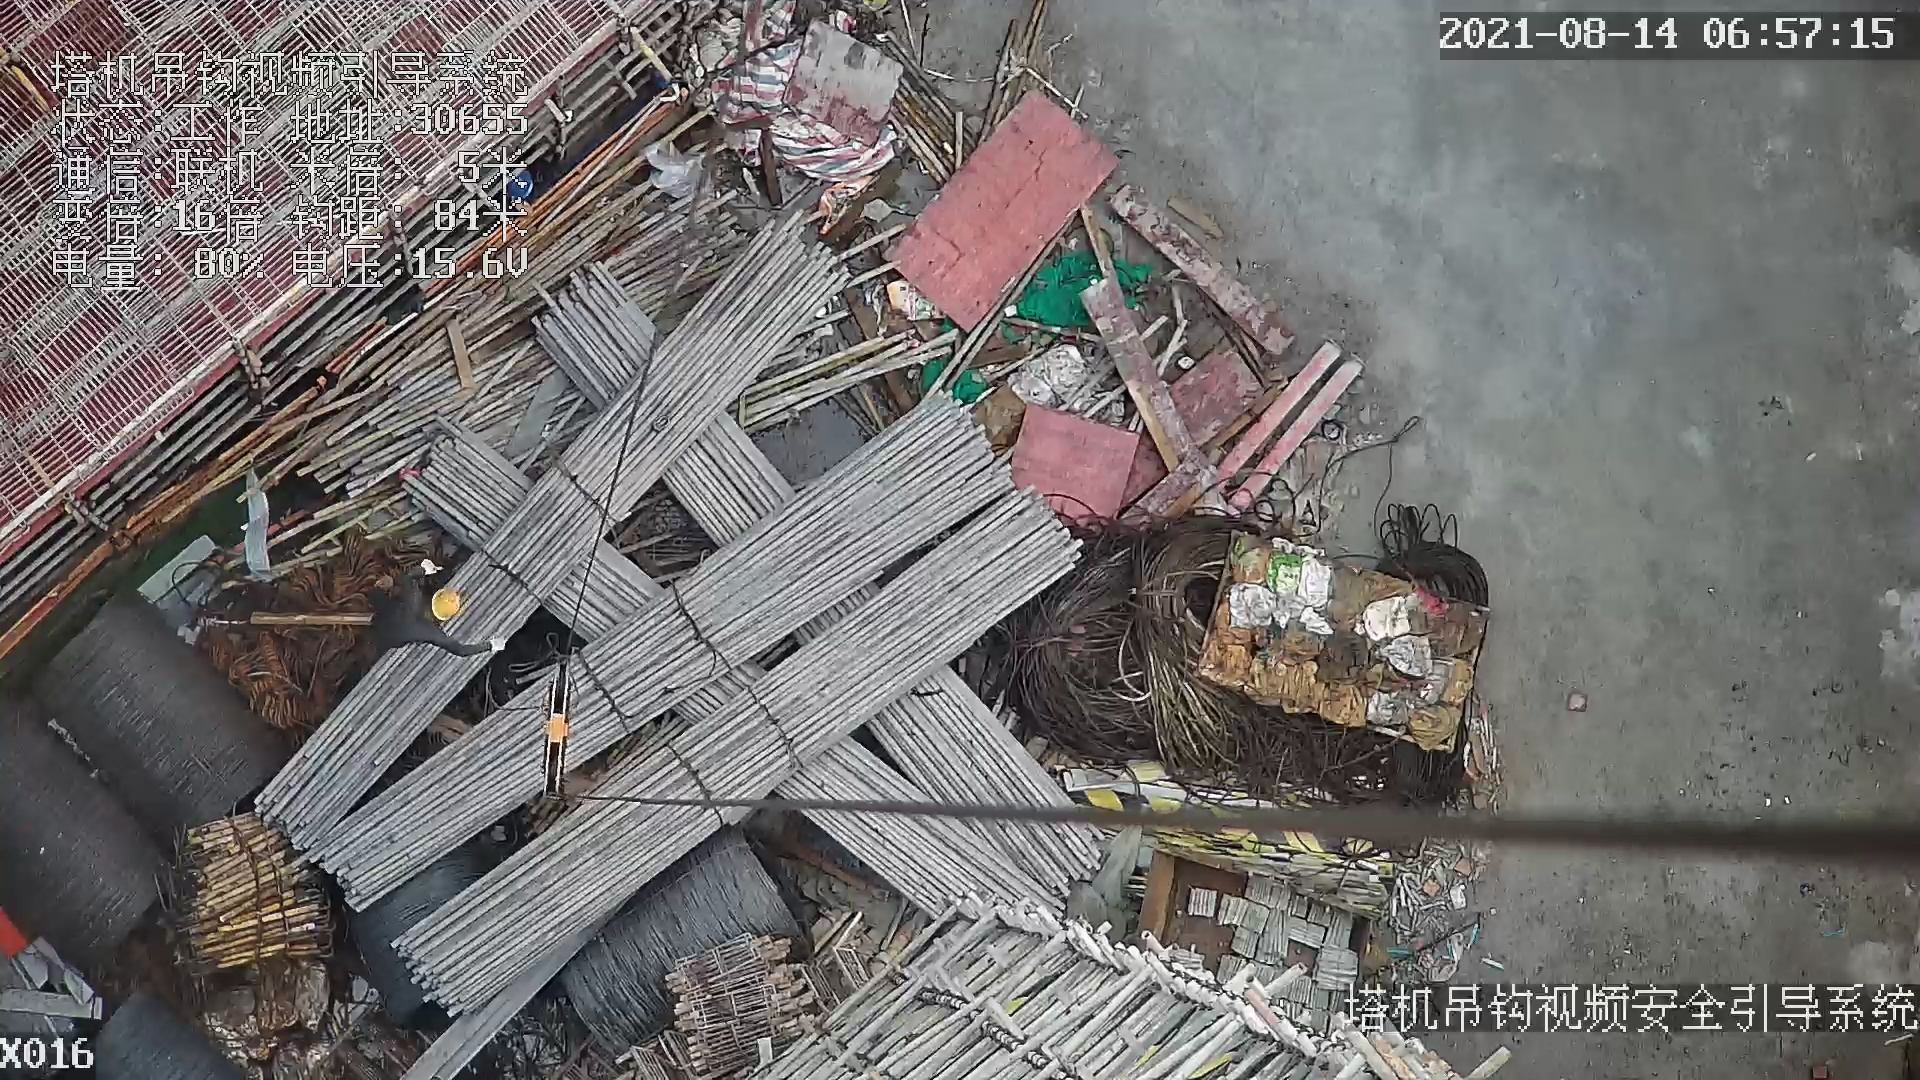helmet: (431, 589, 459, 620)
hook: (537, 674, 583, 810)
person: (365, 558, 508, 663)
rebar: (296, 389, 1016, 918), (248, 214, 844, 849), (386, 485, 1078, 1022), (866, 664, 1104, 897), (767, 737, 1059, 922)
wood: (181, 812, 340, 970)
